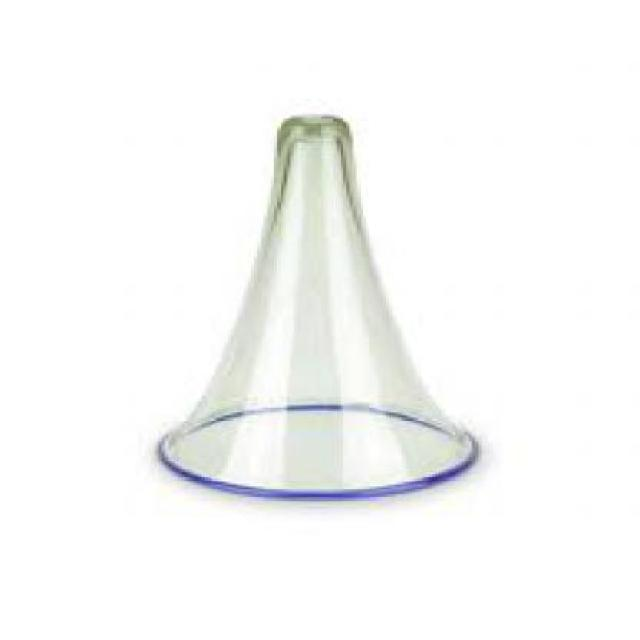kaca: (156, 114, 476, 498)
